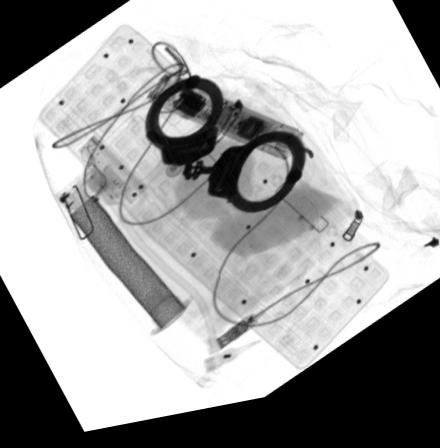Baton: (142, 78, 305, 172)
HandCuffs: (143, 80, 307, 223)
